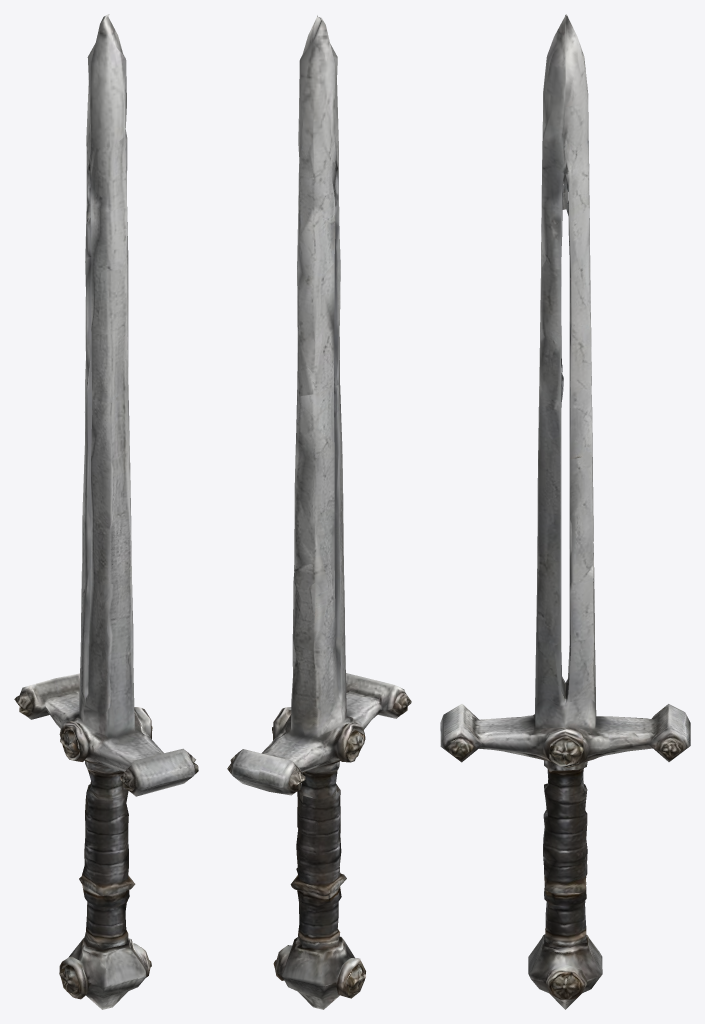
The model's file is sword.glb.
The picture shows the model from 3 angles, left to right: view 1: azimuth 30°, elevation 25°; view 2: azimuth 150°, elevation 25°; view 3: azimuth 270°, elevation 25°; orthographic projection.
Parts seen in each view (by area): view 1: tripo_node_02b3a785-717e-452f-8d19-ccabee801860; view 2: tripo_node_02b3a785-717e-452f-8d19-ccabee801860; view 3: tripo_node_02b3a785-717e-452f-8d19-ccabee801860.
Boxes of the visible parts, <box> form: tripo_node_02b3a785-717e-452f-8d19-ccabee801860: <box>14,14,198,1009</box>; tripo_node_02b3a785-717e-452f-8d19-ccabee801860: <box>227,15,411,1009</box>; tripo_node_02b3a785-717e-452f-8d19-ccabee801860: <box>440,14,690,1009</box>.
Bounding box in the file's own units: 0.0868 × 0.977 × 0.2229.
1 material, 1 textured.
